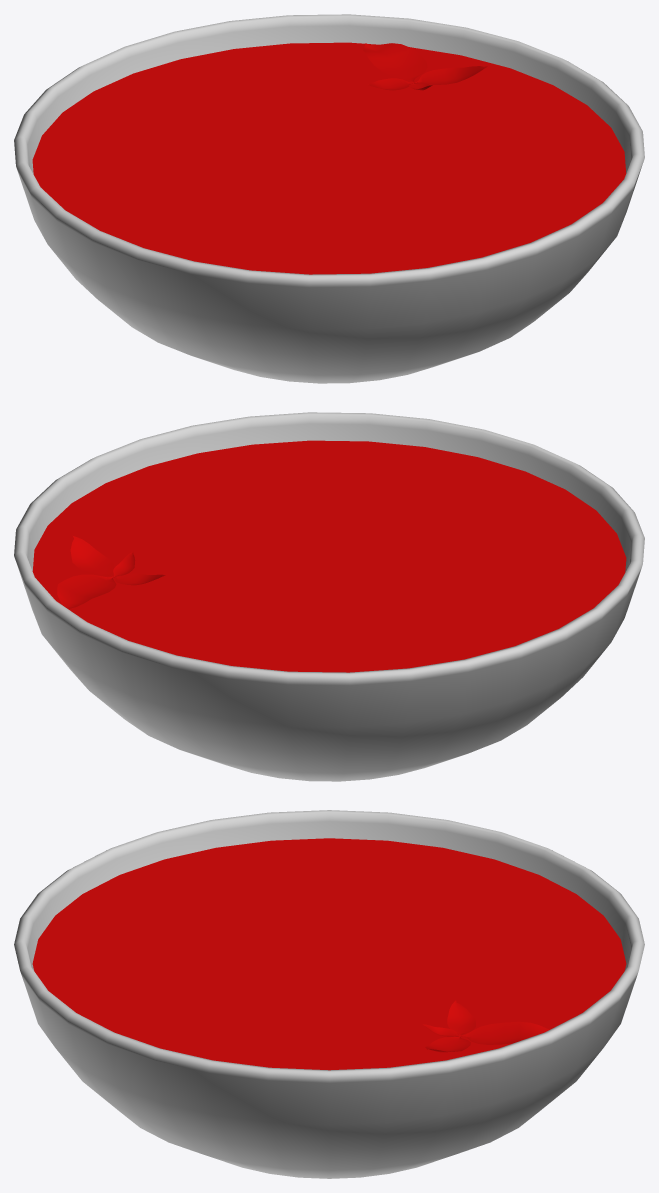
Rendered from FullBowl4.fbx.
3 renders of one model, top to bottom at view 1: azimuth 30°, elevation 25°; view 2: azimuth 150°, elevation 25°; view 3: azimuth 270°, elevation 25°, orthographic.
Visible parts, largest first — view 1: Sphere.001_Sphere.000, Sphere; view 2: Sphere.001_Sphere.000, Sphere; view 3: Sphere.001_Sphere.000, Sphere.
Part boxes in pixels (box(x1,y1,x2,y2)): Sphere.001_Sphere.000: box(32, 42, 626, 274); Sphere: box(14, 14, 644, 383); Sphere.001_Sphere.000: box(32, 440, 626, 672); Sphere: box(14, 412, 644, 781); Sphere.001_Sphere.000: box(32, 838, 626, 1070); Sphere: box(14, 810, 644, 1178).
Bounding box in the file's own units: 196 × 58.91 × 196.
